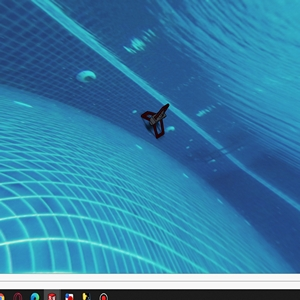submarine: (144, 106, 172, 138)
